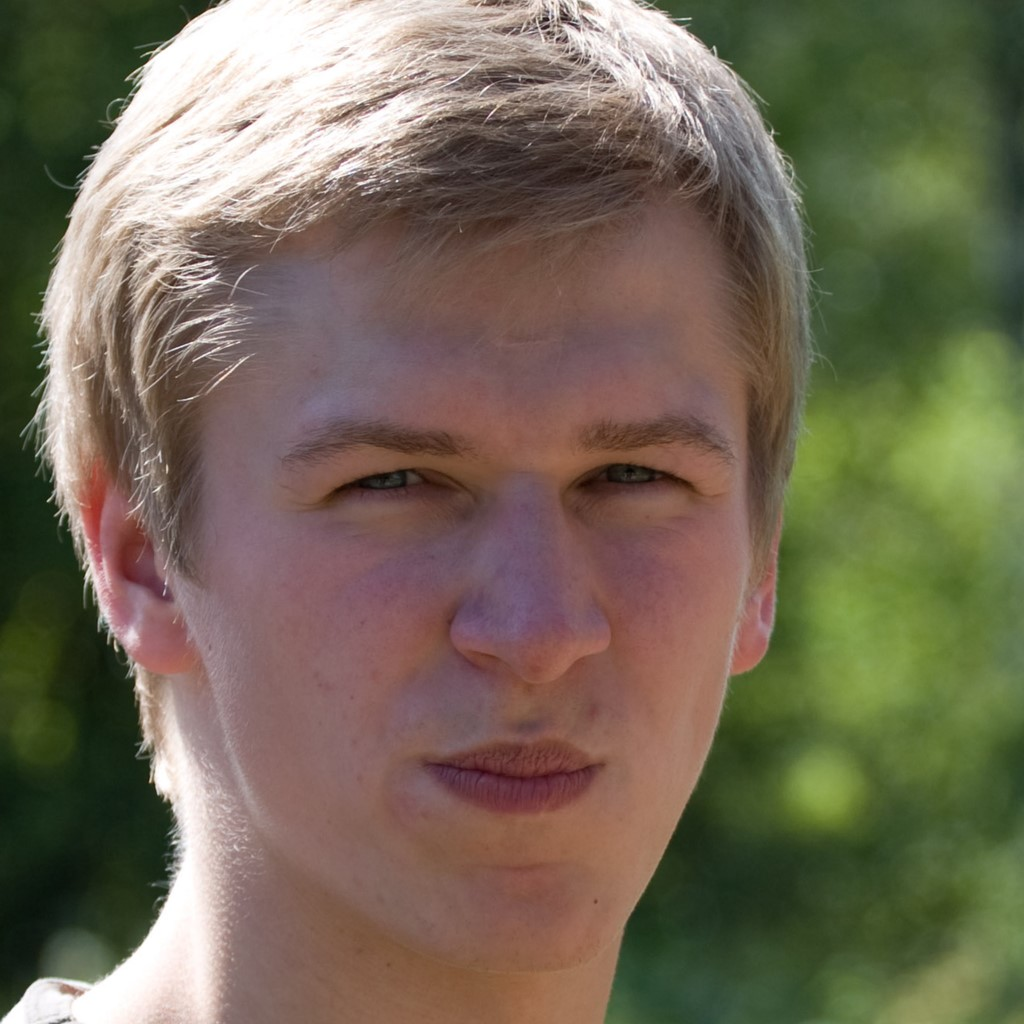sin_mascara: (211, 145, 742, 965)
